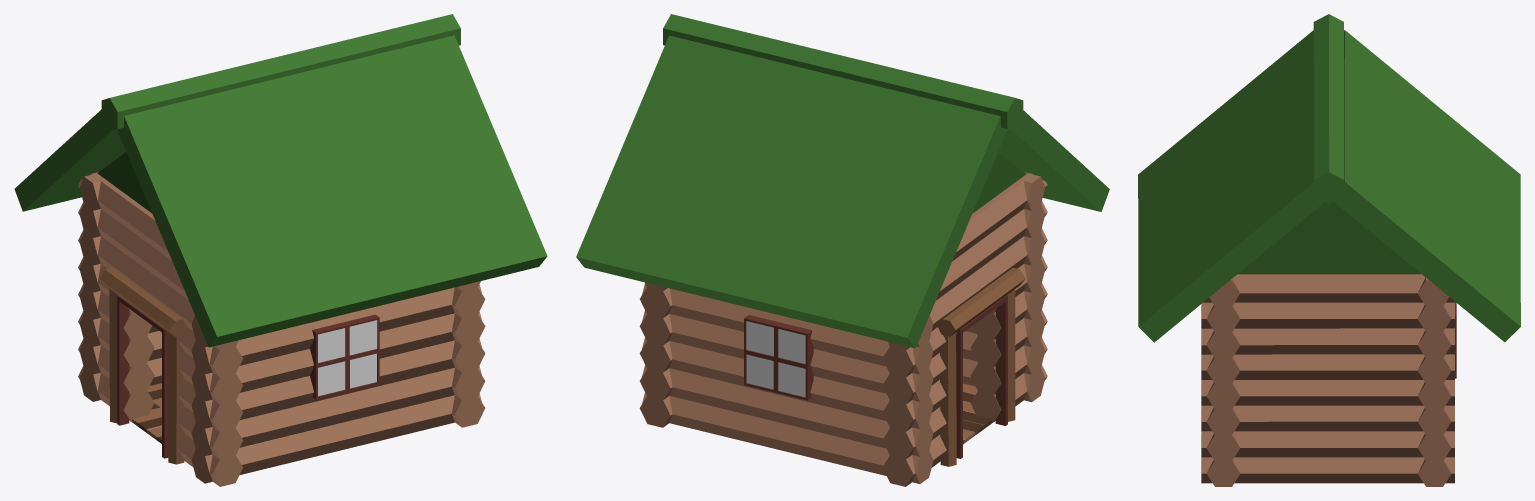
File: LOG_CABIN.fbx
The picture shows the model from 3 angles, left to right: view 1: azimuth 30°, elevation 25°; view 2: azimuth 150°, elevation 25°; view 3: azimuth 270°, elevation 25°; orthographic projection. The views are drawn at different scales.
Parts seen in each view (by area): view 1: Roof Right, Wall Right, Wall Front, Roof Peak, Roof Left, Window Right_out, Wall Left, Front Wall, Door Frame, Log, Log.002, Roof Front (+2 smaller); view 2: Roof Left, Wall Left, Wall Front, Roof Peak, Roof Right, Window Left_out, Wall Right, Front Wall, Door Frame, Log, Log.001, Roof Front (+2 smaller); view 3: Front Wall, Roof Left, Roof Right, Roof Back, Roof Peak, Wall Left, Wall Right.
Boxes of the visible parts, x1=… form: Roof Right: x1=117, y1=35, x2=547, y2=347; Wall Right: x1=191, y1=284, x2=481, y2=483; Wall Front: x1=78, y1=172, x2=243, y2=486; Roof Peak: x1=101, y1=14, x2=460, y2=131; Roof Left: x1=14, y1=109, x2=125, y2=211; Window Right_out: x1=310, y1=314, x2=379, y2=399; Wall Left: x1=79, y1=173, x2=161, y2=401; Front Wall: x1=452, y1=281, x2=485, y2=427; Door Frame: x1=117, y1=295, x2=168, y2=458; Log: x1=99, y1=268, x2=187, y2=336; Log.002: x1=168, y1=332, x2=184, y2=464; Roof Front: x1=97, y1=152, x2=151, y2=212; Roof Left: x1=576, y1=35, x2=1007, y2=348; Wall Left: x1=642, y1=283, x2=933, y2=483; Wall Front: x1=882, y1=172, x2=1047, y2=486; Roof Peak: x1=663, y1=14, x2=1023, y2=131; Roof Right: x1=998, y1=110, x2=1109, y2=211; Window Left_out: x1=744, y1=315, x2=813, y2=400; Wall Right: x1=963, y1=174, x2=1045, y2=402; Front Wall: x1=639, y1=282, x2=672, y2=427; Door Frame: x1=956, y1=295, x2=1007, y2=458; Log: x1=938, y1=268, x2=1025, y2=336; Log.001: x1=940, y1=332, x2=956, y2=466; Roof Front: x1=972, y1=153, x2=1026, y2=213; Front Wall: x1=1201, y1=274, x2=1454, y2=483; Roof Left: x1=1334, y1=30, x2=1520, y2=342; Roof Right: x1=1138, y1=30, x2=1324, y2=342; Roof Back: x1=1238, y1=202, x2=1421, y2=274; Roof Peak: x1=1313, y1=14, x2=1344, y2=203; Wall Left: x1=1417, y1=277, x2=1451, y2=486; Wall Right: x1=1206, y1=278, x2=1240, y2=486.
Size of the model in its own units: 0.8383 by 0.8221 by 0.8567.
